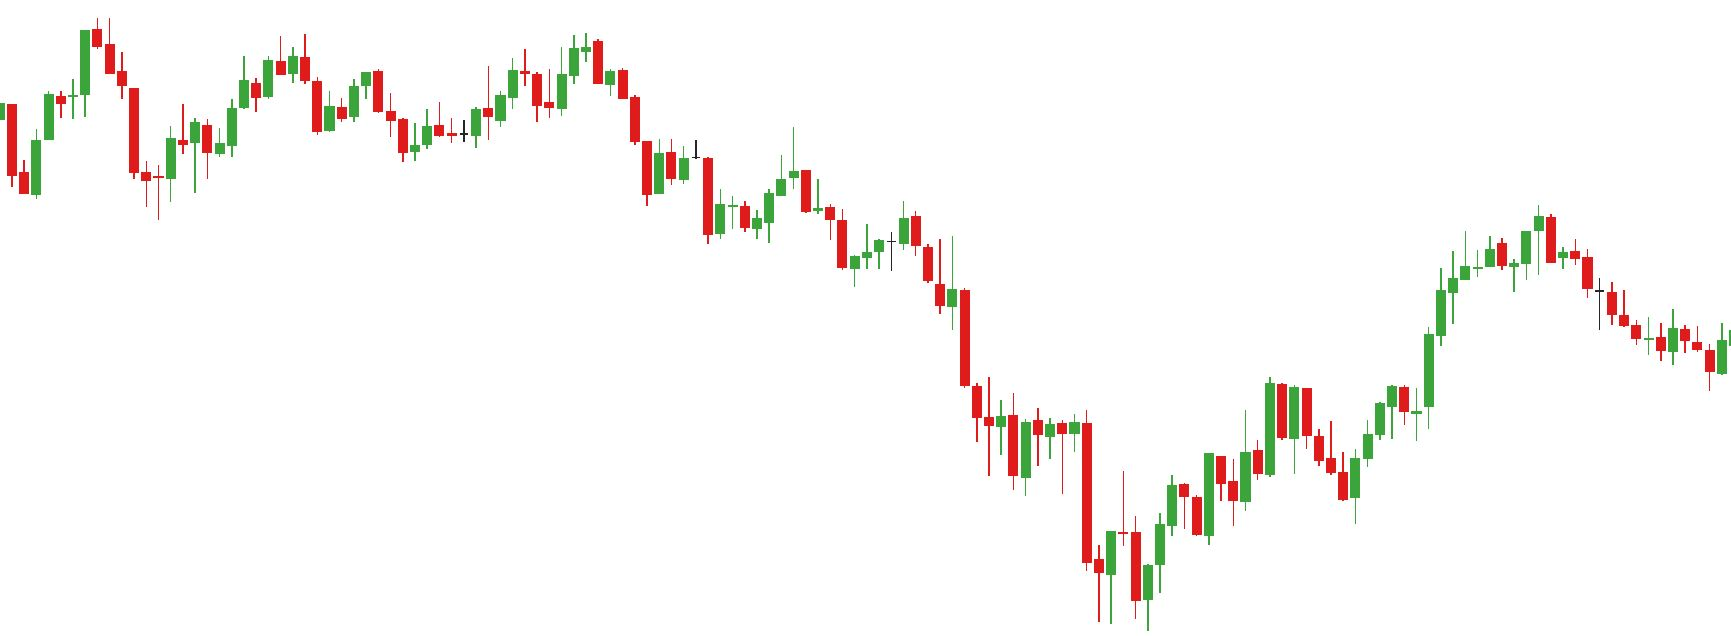buy: (18, 71, 179, 221), (1284, 382, 1364, 533)
sell: (690, 124, 801, 216), (520, 28, 605, 106)
